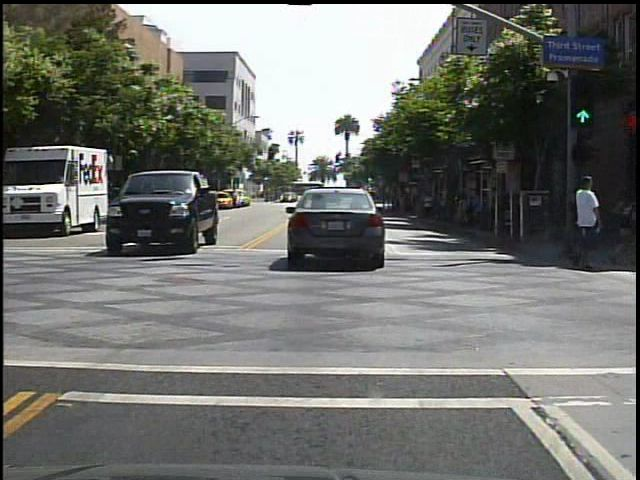person: (567, 164, 607, 271), (575, 173, 607, 265), (418, 189, 437, 223)
